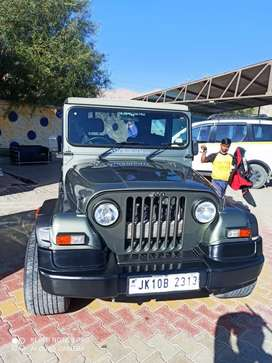JK10B2313: (128, 270, 199, 294)
